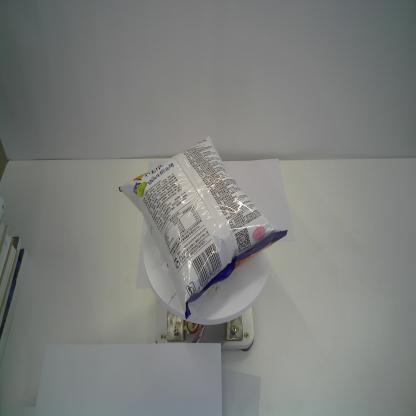Puffed Food: (118, 134, 287, 321)
